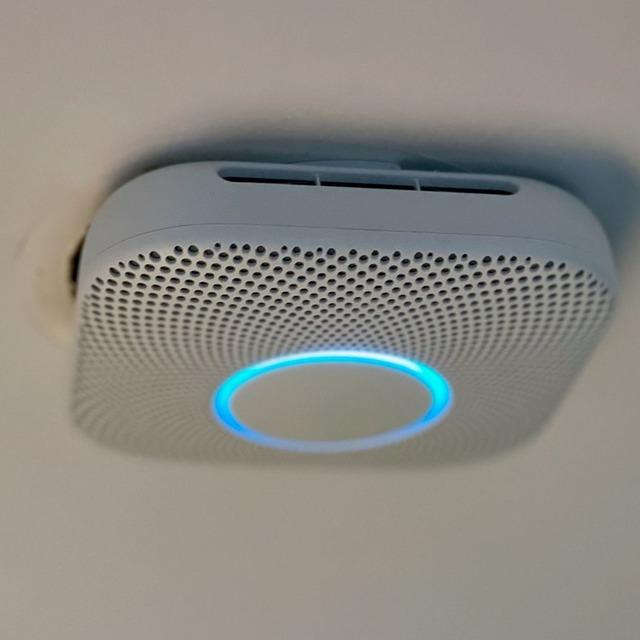Smoke-Detector: (62, 158, 612, 498)
